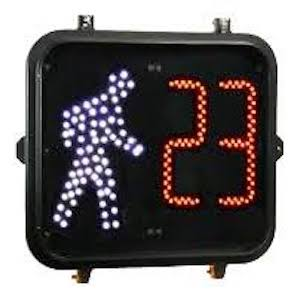green: (45, 66, 144, 232)
